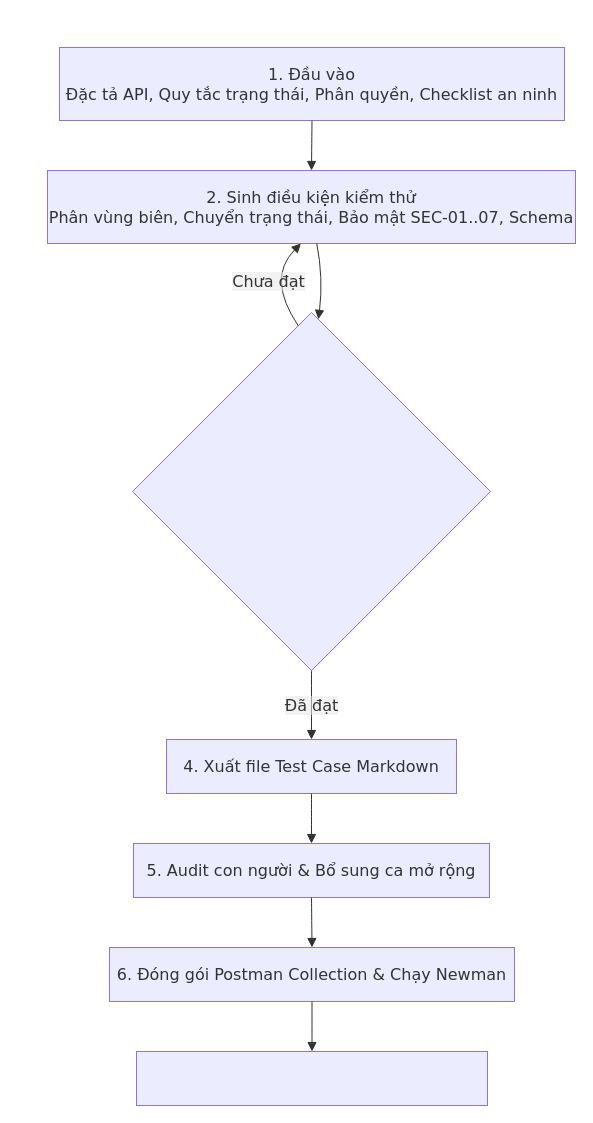
This 593x1123 diagram has some shape labels left out. Each missing label, with the centre of its shape:
3. Kiểm tra độ phủ Đạt ít nhất 35 ca / tính năng?: point 311,491
7. Báo cáo HTML & Tạo GitHub Bug Issue: point 312,1078
